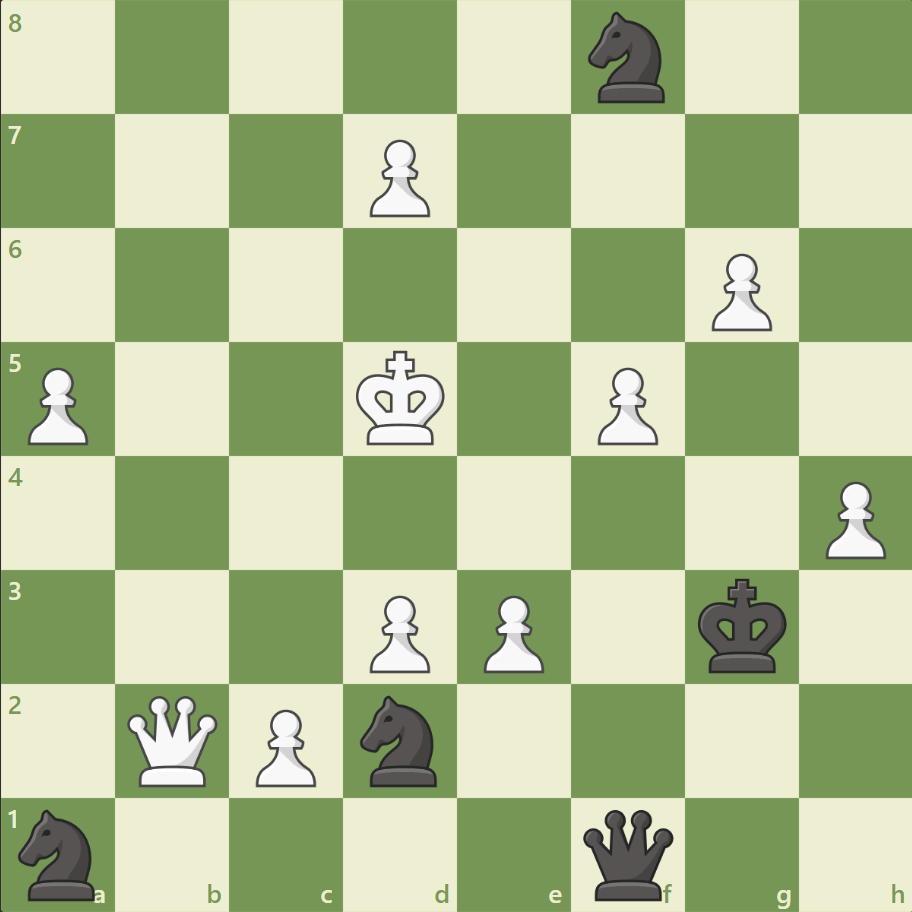K: (351, 344, 451, 452)
P: (701, 246, 776, 337), (20, 359, 95, 450), (474, 586, 549, 677), (247, 700, 322, 791), (361, 132, 435, 223), (588, 359, 662, 450), (815, 473, 889, 564), (361, 586, 435, 677)
Q: (124, 690, 223, 789)
k: (692, 571, 792, 679)
n: (351, 688, 449, 791), (579, 7, 676, 110), (11, 802, 108, 904)
q: (578, 804, 677, 903)
